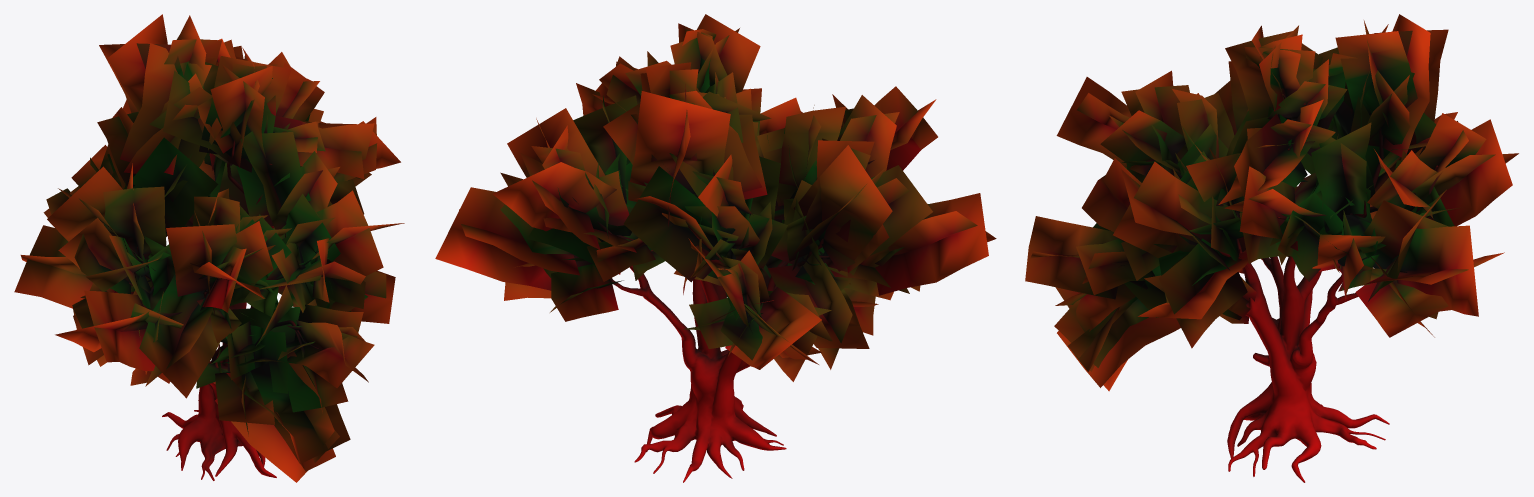
File: BeechTreeOldFall.fbx
3 renders of one model, left to right at view 1: azimuth 30°, elevation 25°; view 2: azimuth 150°, elevation 25°; view 3: azimuth 270°, elevation 25°, orthographic. The views are drawn at different scales.
Visible parts, largest first — view 1: BTOF_Leaves_LOD0, BTOF_Bark_LOD0; view 2: BTOF_Leaves_LOD0, BTOF_Bark_LOD0; view 3: BTOF_Leaves_LOD0, BTOF_Bark_LOD0.
Boxes of the visible parts, left/top/right/bottom form: BTOF_Leaves_LOD0: left=14, top=14, right=404, bottom=482; BTOF_Bark_LOD0: left=129, top=140, right=318, bottom=480; BTOF_Leaves_LOD0: left=435, top=14, right=996, bottom=381; BTOF_Bark_LOD0: left=597, top=205, right=829, bottom=482; BTOF_Leaves_LOD0: left=1025, top=14, right=1518, bottom=391; BTOF_Bark_LOD0: left=1219, top=94, right=1438, bottom=482.
Size of what is drawn, in the model's own units: 19.1 by 18.99 by 19.82.
